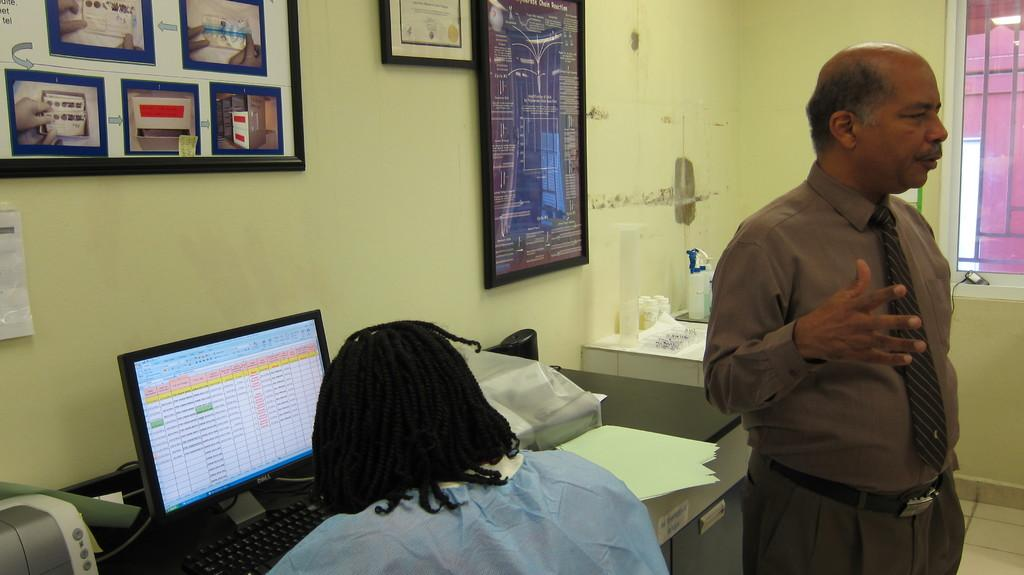Computer-monitor: (111, 322, 320, 557)
